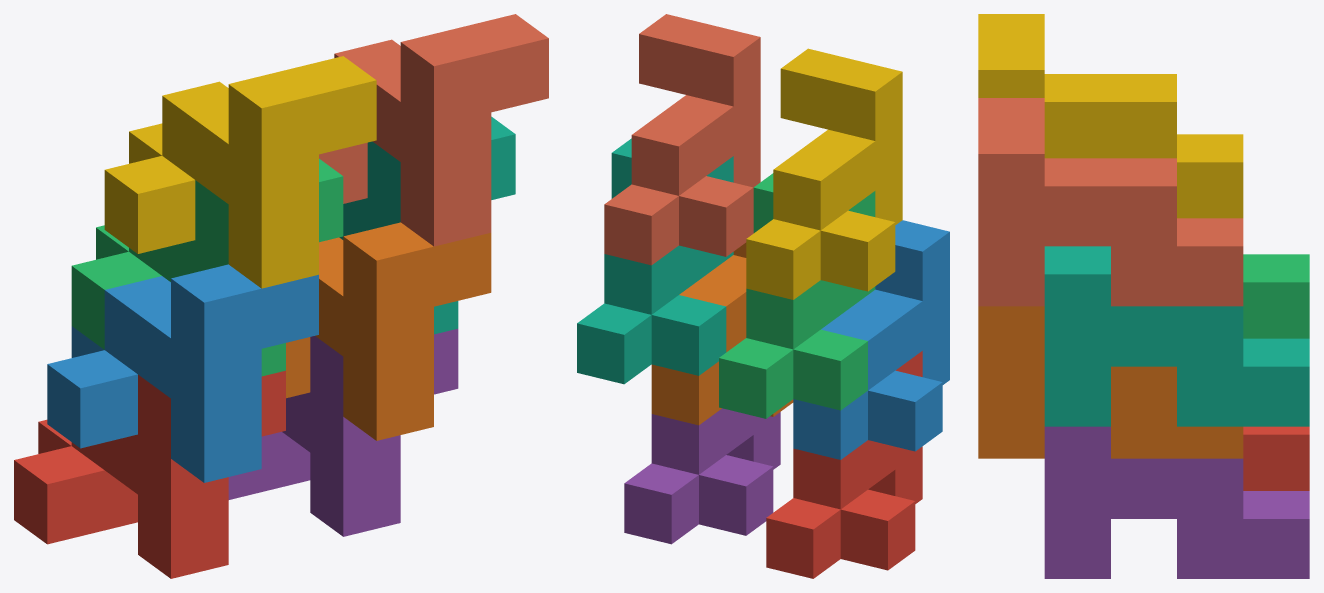
The model's file is tiling.obj.
The picture shows the model from 3 angles, left to right: view 1: azimuth 30°, elevation 25°; view 2: azimuth 150°, elevation 25°; view 3: azimuth 270°, elevation 25°; orthographic projection. The views are drawn at different scales.
Visible parts, largest first — view 1: copy_1_domain_4, copy_1_domain_2, copy_1_domain_8, copy_1_domain_6, copy_1_domain_1, copy_1_domain_5, copy_1_domain_3, copy_1_domain_7; view 2: copy_1_domain_4, copy_1_domain_8, copy_1_domain_2, copy_1_domain_1, copy_1_domain_7, copy_1_domain_3, copy_1_domain_5, copy_1_domain_6; view 3: copy_1_domain_8, copy_1_domain_7, copy_1_domain_5, copy_1_domain_4, copy_1_domain_6, copy_1_domain_3, copy_1_domain_1.
Boxes of the visible parts, <box> form: copy_1_domain_4: <box>104,56,376,288</box>; copy_1_domain_2: <box>47,264,318,482</box>; copy_1_domain_8: <box>319,14,548,246</box>; copy_1_domain_6: <box>286,222,491,440</box>; copy_1_domain_1: <box>14,370,285,578</box>; copy_1_domain_5: <box>228,328,458,536</box>; copy_1_domain_3: <box>71,158,343,376</box>; copy_1_domain_7: <box>339,116,515,334</box>; copy_1_domain_4: <box>746,48,902,299</box>; copy_1_domain_8: <box>604,14,760,265</box>; copy_1_domain_2: <box>793,220,949,459</box>; copy_1_domain_1: <box>766,351,922,578</box>; copy_1_domain_7: <box>577,138,733,384</box>; copy_1_domain_3: <box>719,173,875,418</box>; copy_1_domain_5: <box>624,408,780,544</box>; copy_1_domain_6: <box>651,242,793,425</box>; copy_1_domain_8: <box>978,98,1243,306</box>; copy_1_domain_7: <box>1044,246,1309,426</box>; copy_1_domain_5: <box>1044,426,1309,578</box>; copy_1_domain_4: <box>978,14,1243,218</box>; copy_1_domain_6: <box>978,306,1243,458</box>; copy_1_domain_3: <box>1243,254,1309,338</box>; copy_1_domain_1: <box>1243,426,1309,490</box>.
Size of the model in its own units: 7 by 8 by 5.
